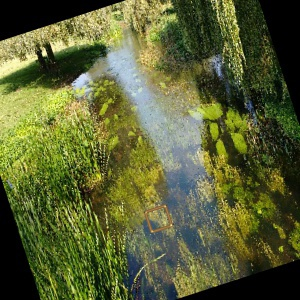square: (143, 204, 176, 235)
